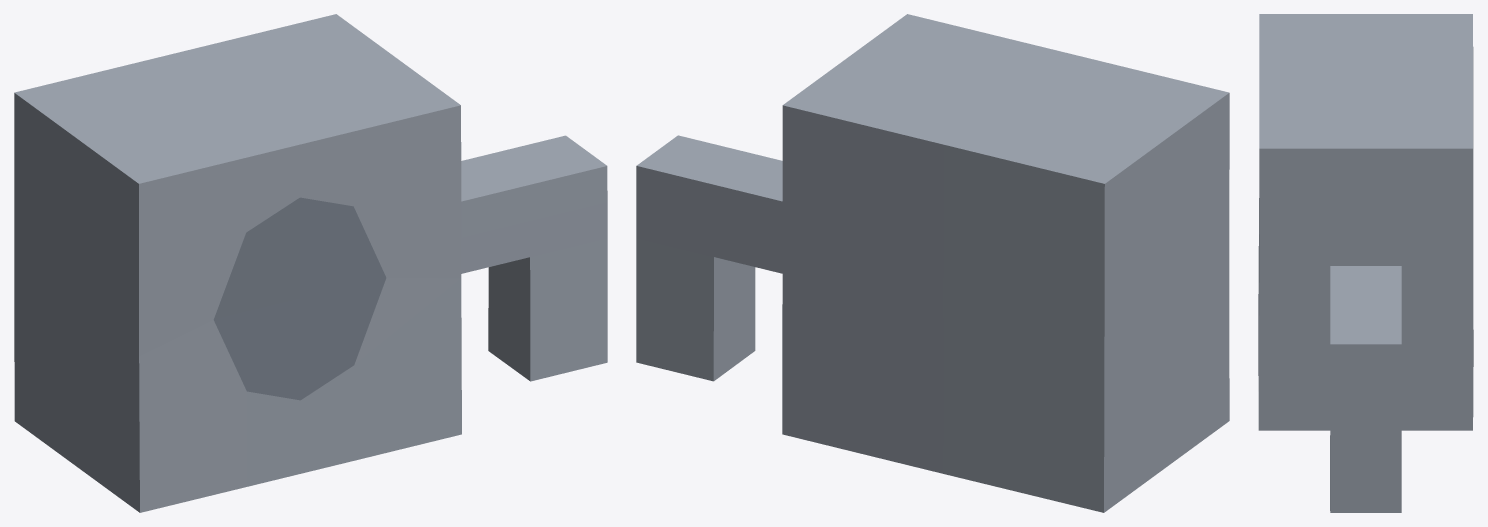
Rendered from Building_Objects_Air_Conditioner_Panel.fbx.
The picture shows the model from 3 angles, left to right: view 1: azimuth 30°, elevation 25°; view 2: azimuth 150°, elevation 25°; view 3: azimuth 270°, elevation 25°; orthographic projection. The views are drawn at different scales.
Visible parts, largest first — view 1: Building_Objects_Air_Conditioner_Panel; view 2: Building_Objects_Air_Conditioner_Panel; view 3: Building_Objects_Air_Conditioner_Panel.
Part boxes in pixels (left/top/right/bottom): Building_Objects_Air_Conditioner_Panel: left=14, top=14, right=607, bottom=512; Building_Objects_Air_Conditioner_Panel: left=636, top=14, right=1229, bottom=512; Building_Objects_Air_Conditioner_Panel: left=1258, top=14, right=1473, bottom=512.
Bounding box in the file's own units: 221 × 138 × 94.15.
